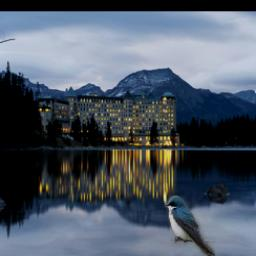Swallow: (165, 197, 215, 256)
